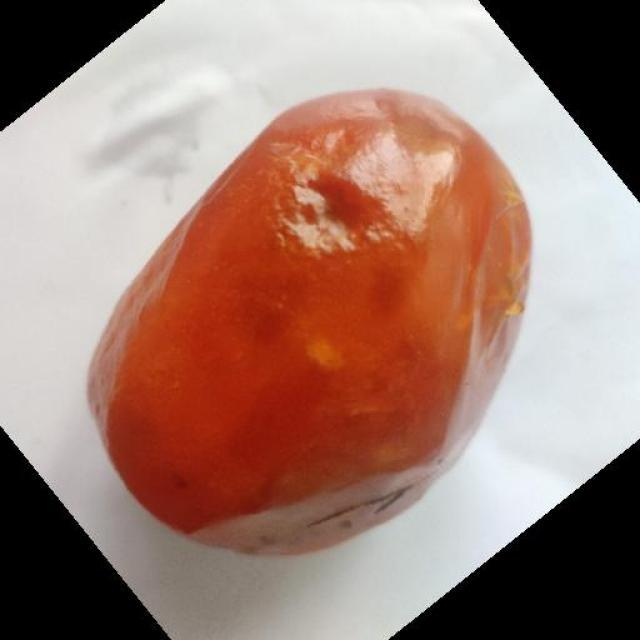Rotten Tomato: (77, 75, 564, 575)
